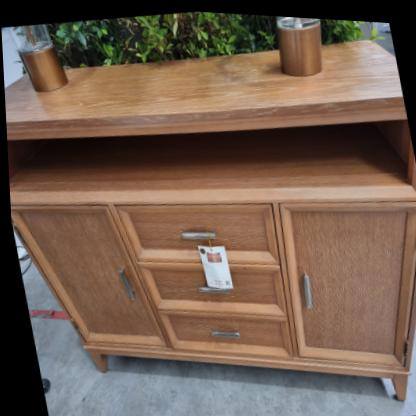Sideboard: (0, 9, 416, 416)
